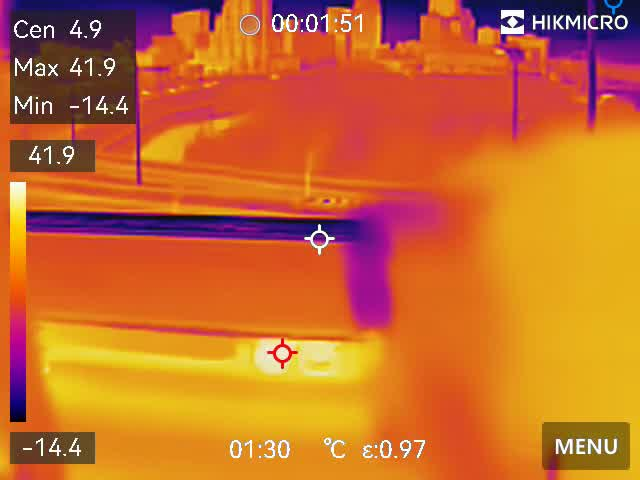heavyTruck: (22, 205, 394, 370)
